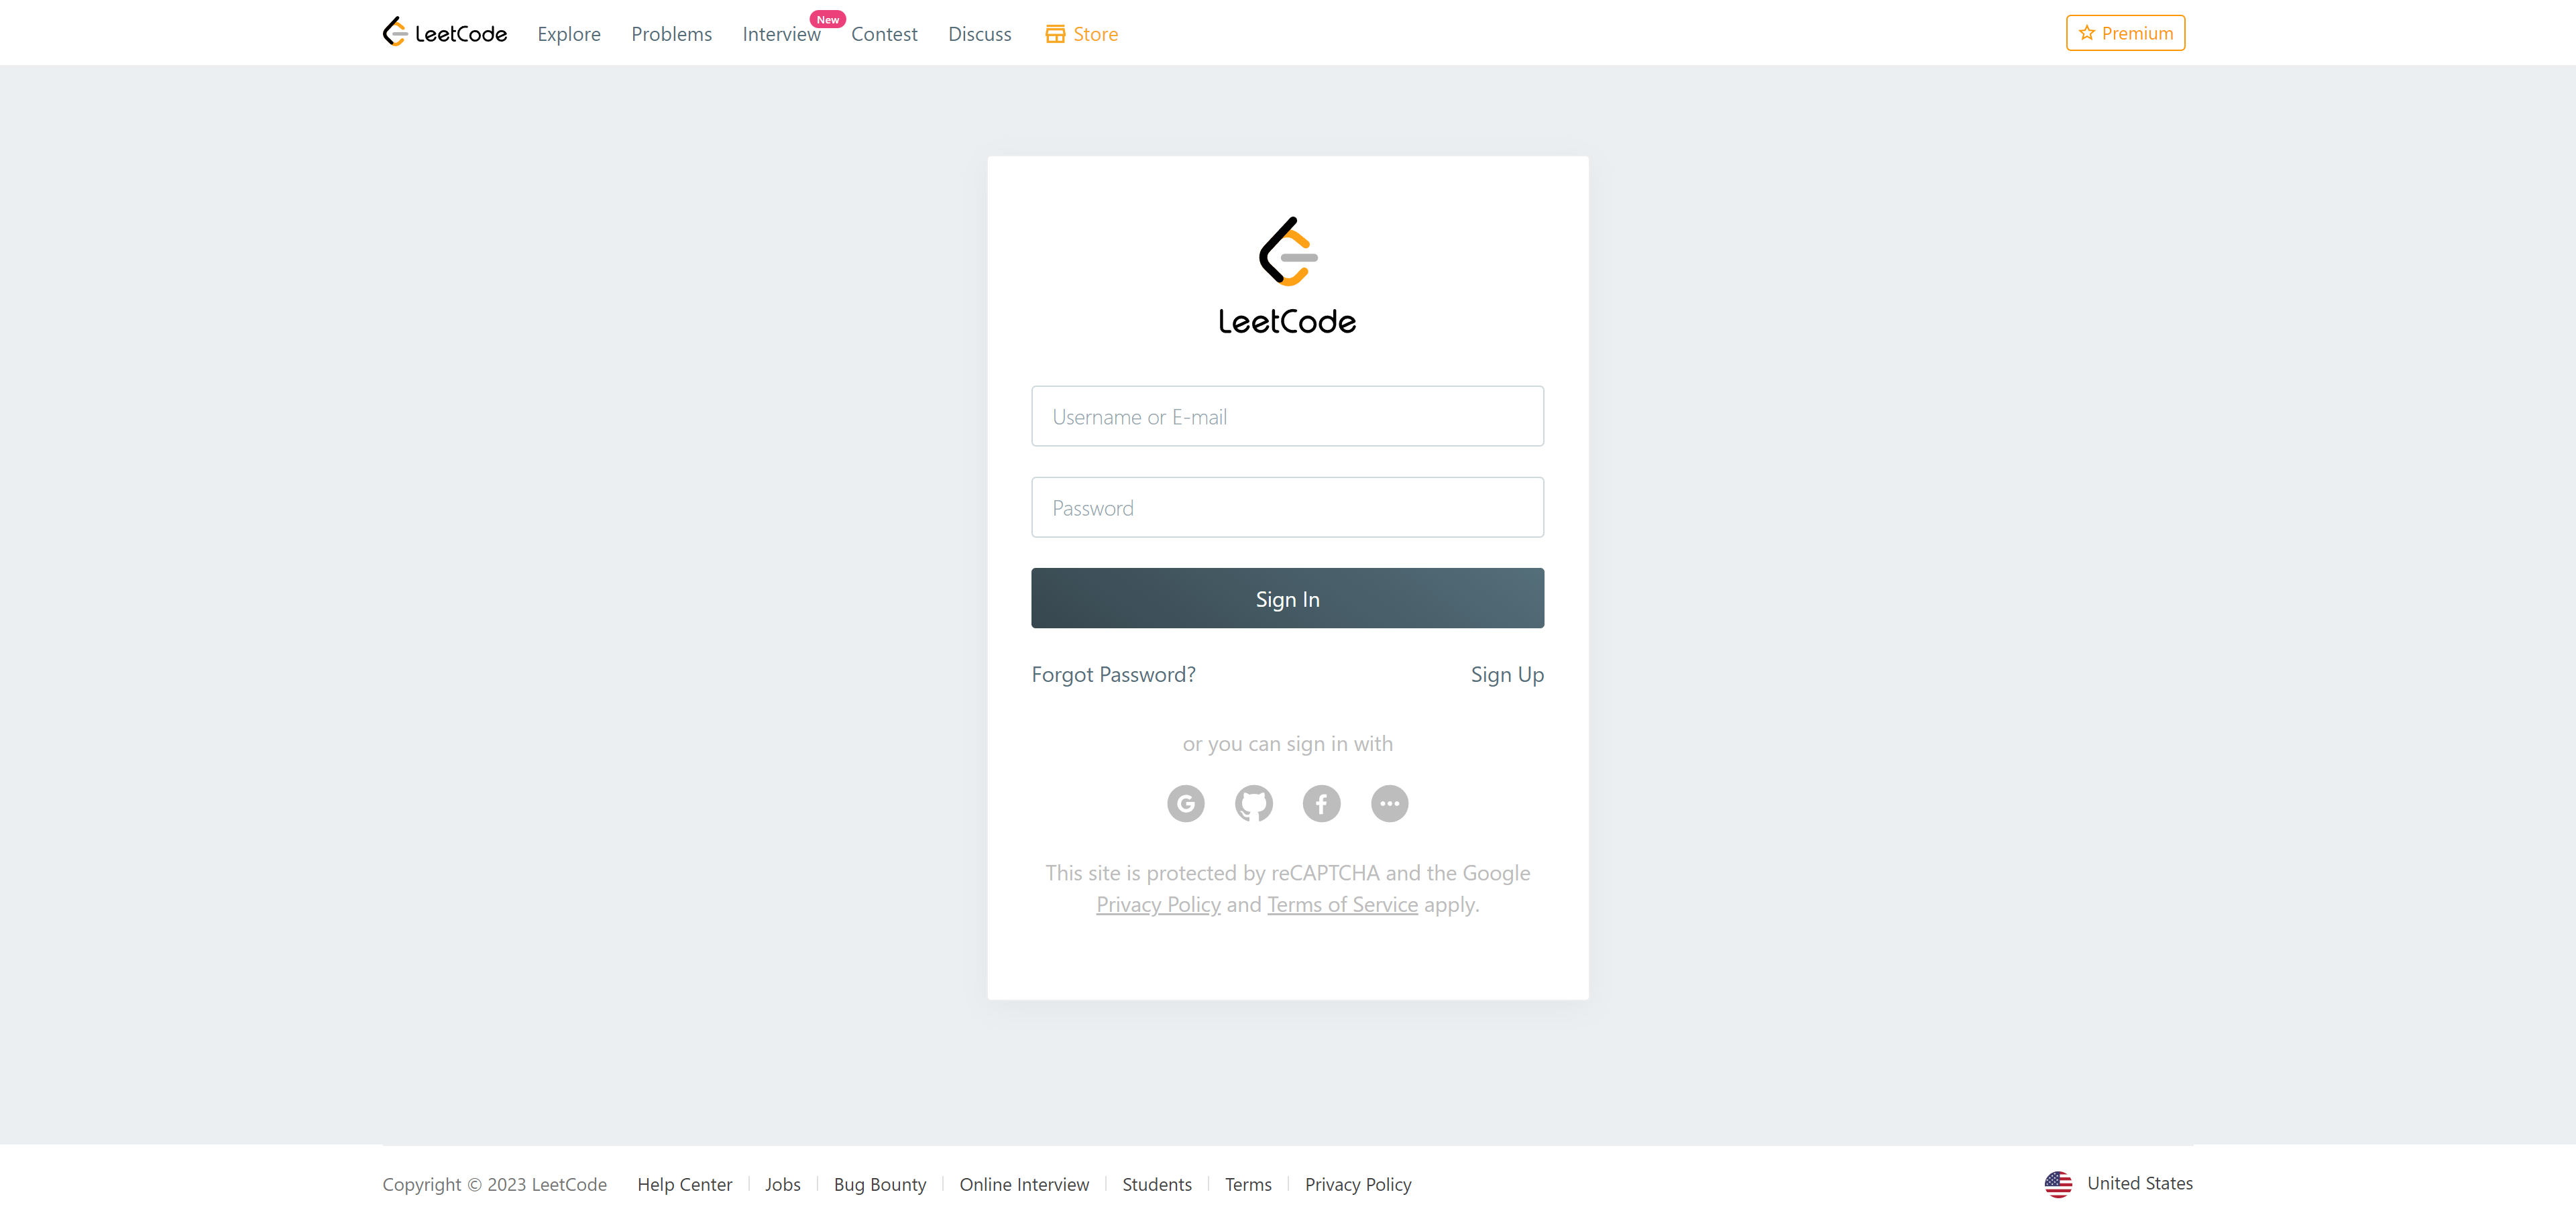login_button: (1032, 569, 1544, 628)
login_form: (1022, 376, 1552, 641)
